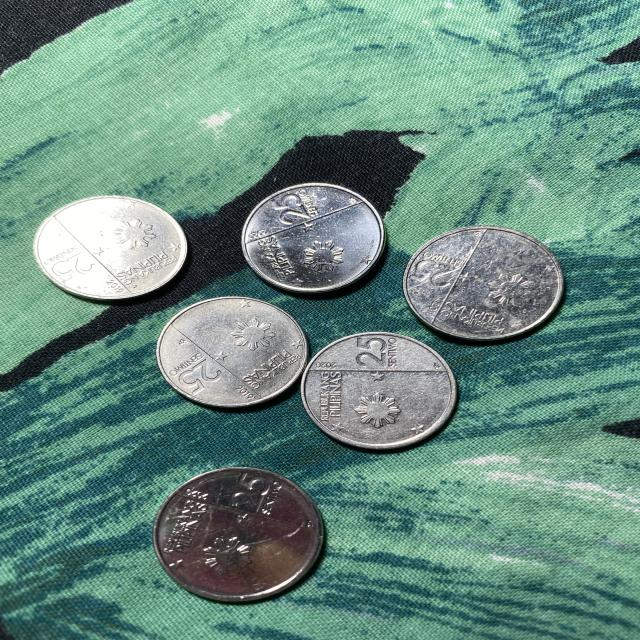25Cent_New_Front: (225, 471, 274, 512), (269, 193, 314, 227), (52, 253, 98, 286), (178, 360, 222, 394), (352, 337, 397, 368), (410, 259, 456, 288)
